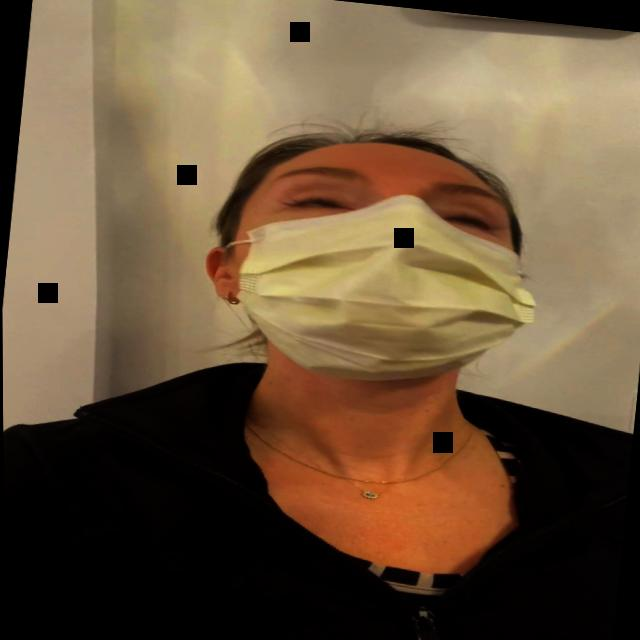Mask: (206, 126, 555, 400)
